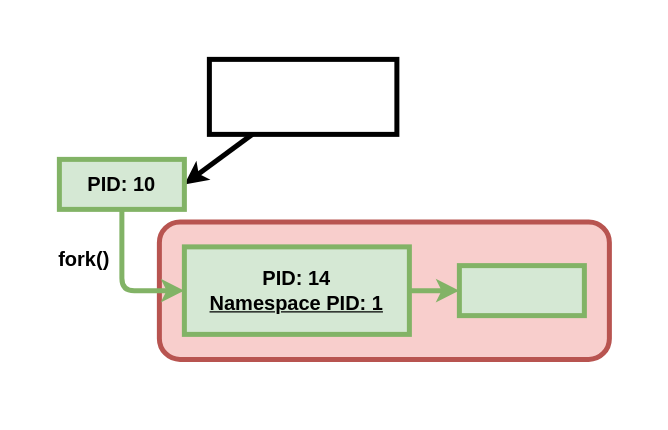
The diagram is 668 pixels wide and 430 high, and some of its shapes have lost their labels. Each missing label, with the centre of its shape:
"PID Namespace unshare" belongs at pixel 302 96.
"PID: 2" belongs at pixel 521 290.
